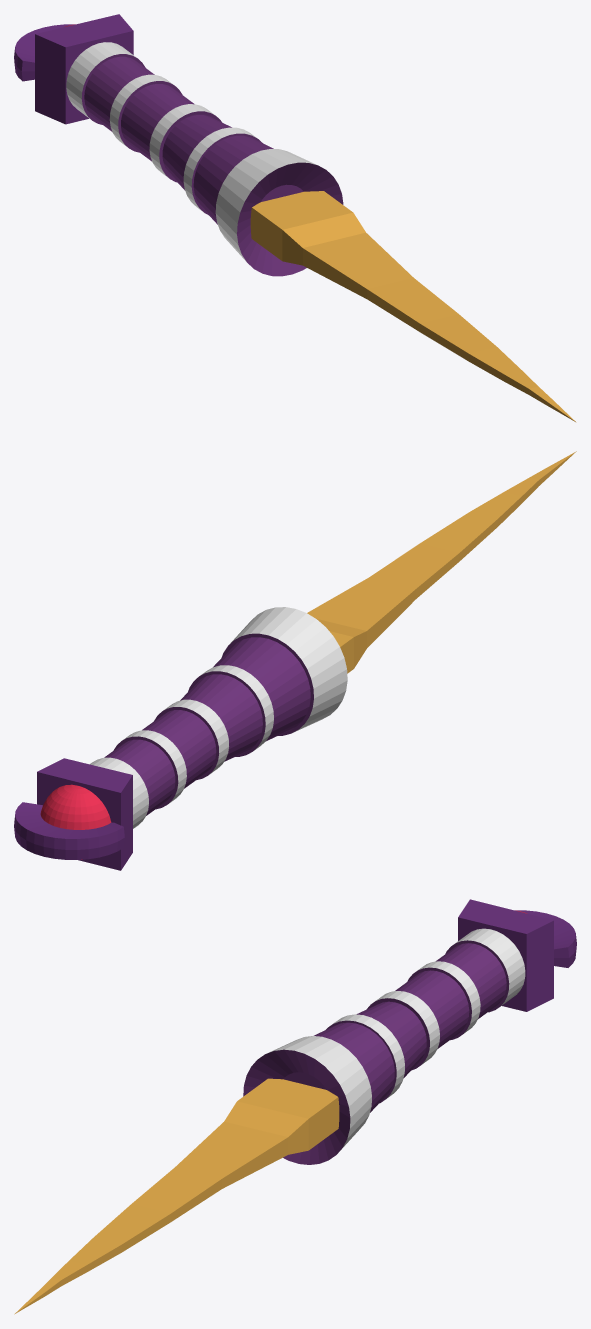
Rendered from daggerbast.fbx.
3 views of the same model, one above another, from view 1: azimuth 30°, elevation 25°; view 2: azimuth 150°, elevation 25°; view 3: azimuth 330°, elevation 25° (orthographic).
Visible parts, largest first — view 1: daggerbast; view 2: daggerbast; view 3: daggerbast.
Boxes of the visible parts, x1,y1,x2,y2 form: daggerbast: (14,14,576,422); daggerbast: (14,451,576,870); daggerbast: (14,899,576,1314).
Size of the model in its own units: 49.92 by 49.92 by 432.
